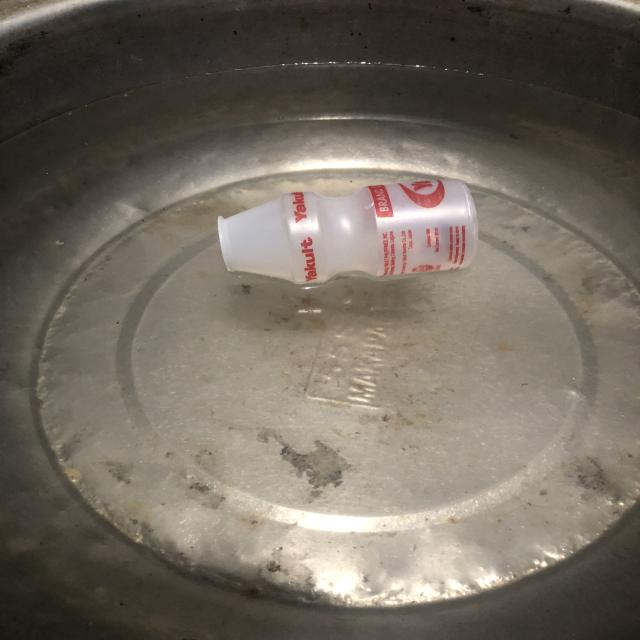Plastic Bottle: (208, 175, 487, 290)
